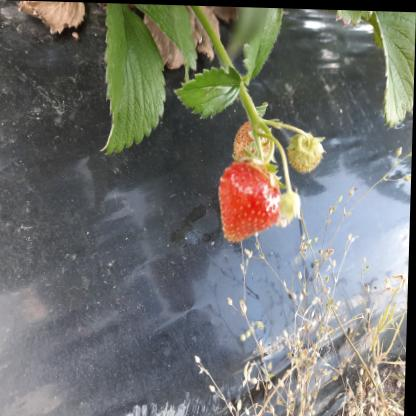ripe: (224, 160, 283, 235)
